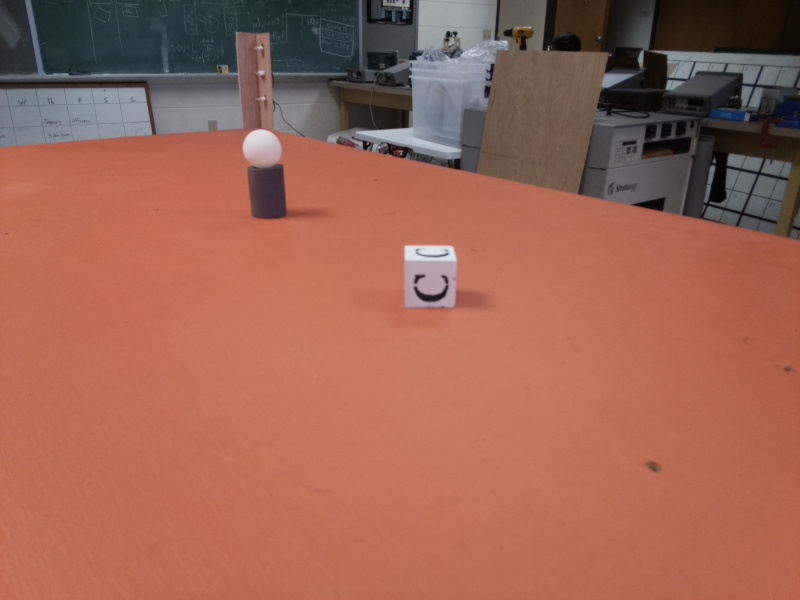blockC: (401, 240, 465, 309)
obstacle: (240, 28, 273, 130), (244, 132, 283, 216)
